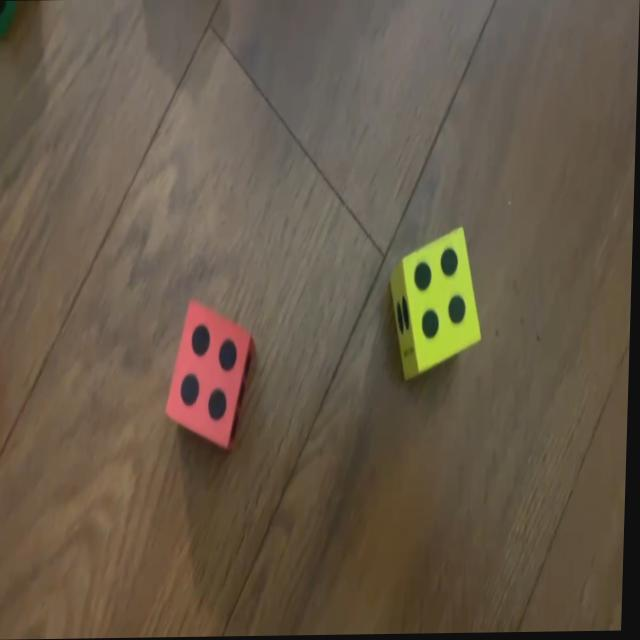red_block: (166, 301, 258, 446)
